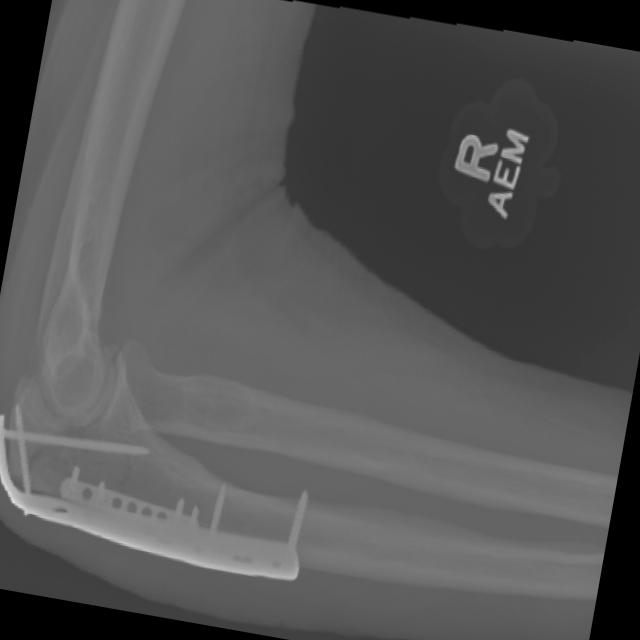elbow positive: (0, 397, 153, 547)
